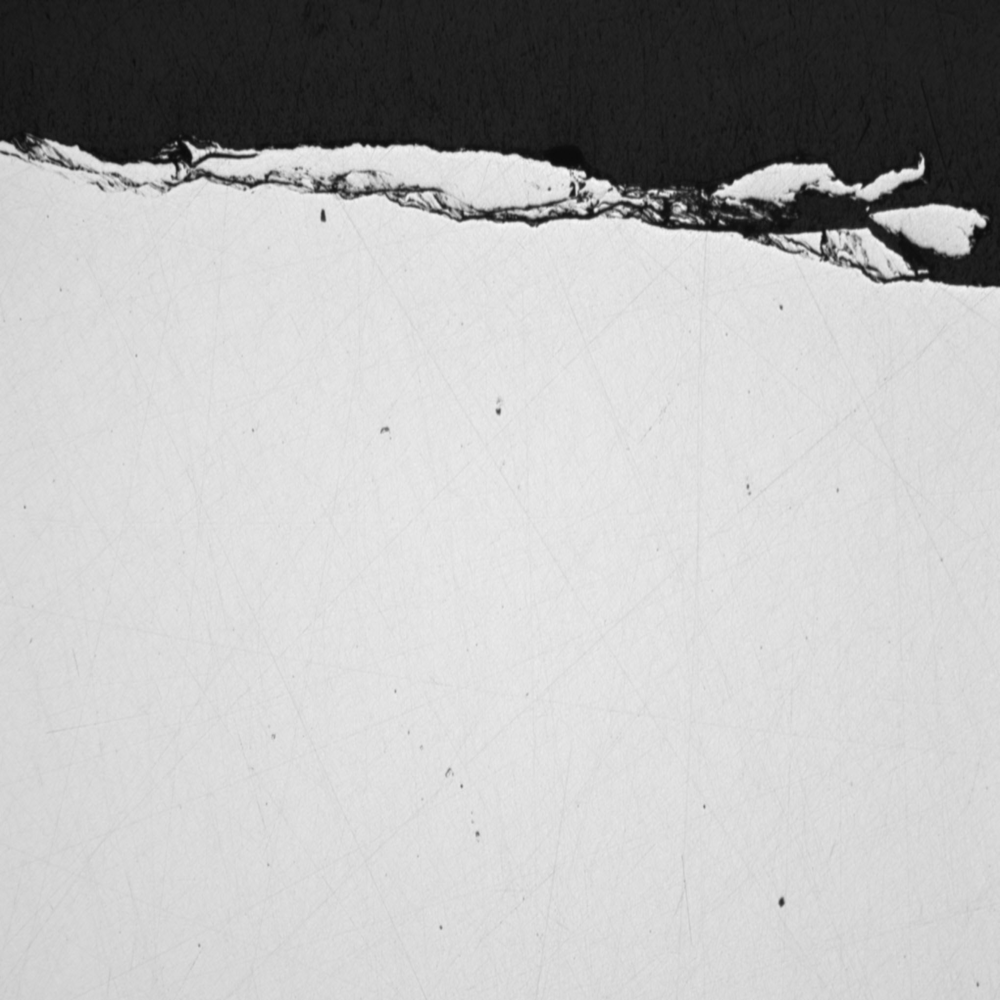crack: (19, 129, 983, 298)
